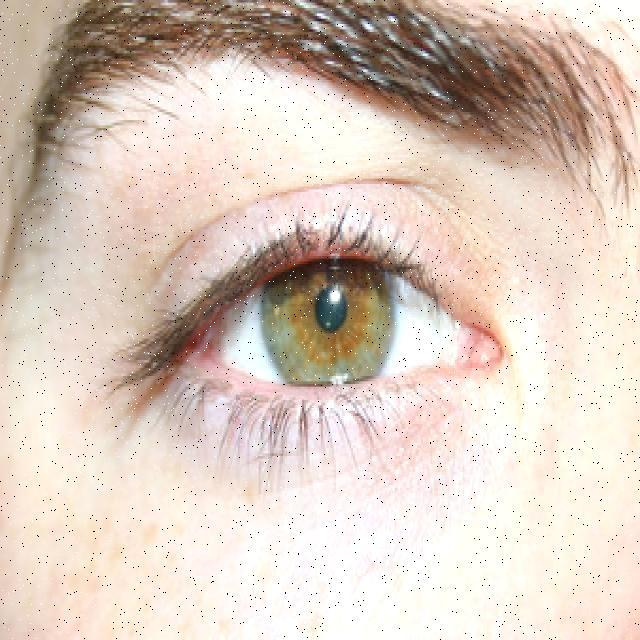Normal: (75, 125, 561, 541)
